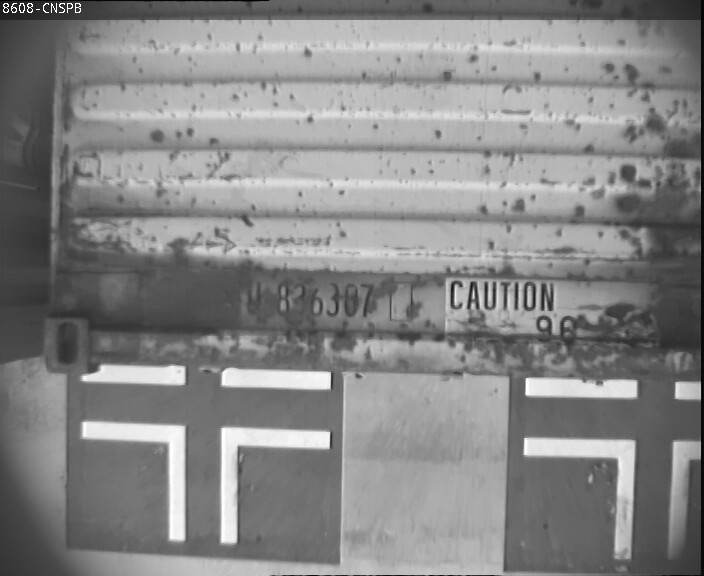groundmarker_1: (82, 420, 328, 543)
